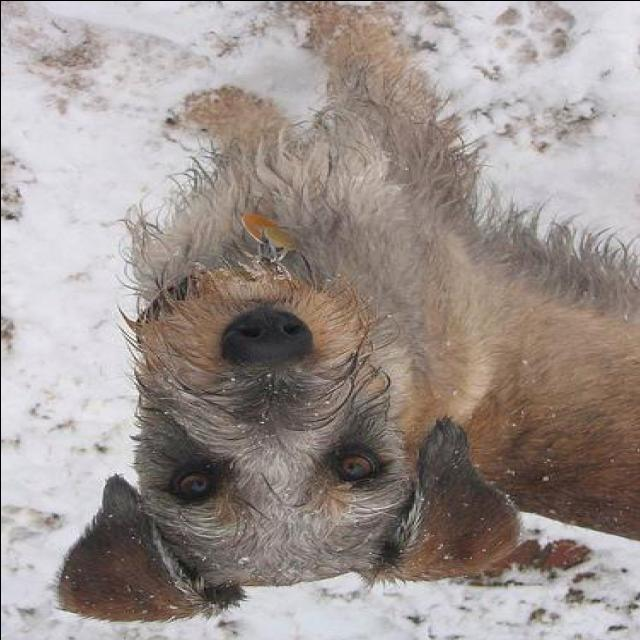standard_schnauzer: (53, 2, 636, 624)
